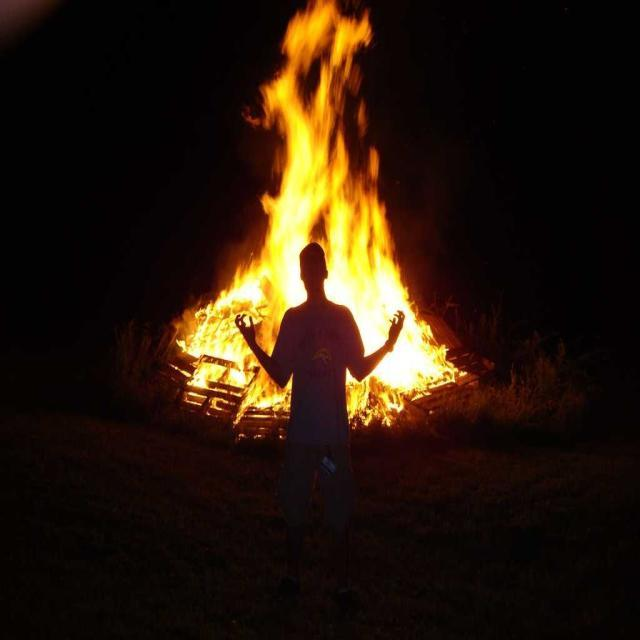Fire: (168, 10, 467, 418)
